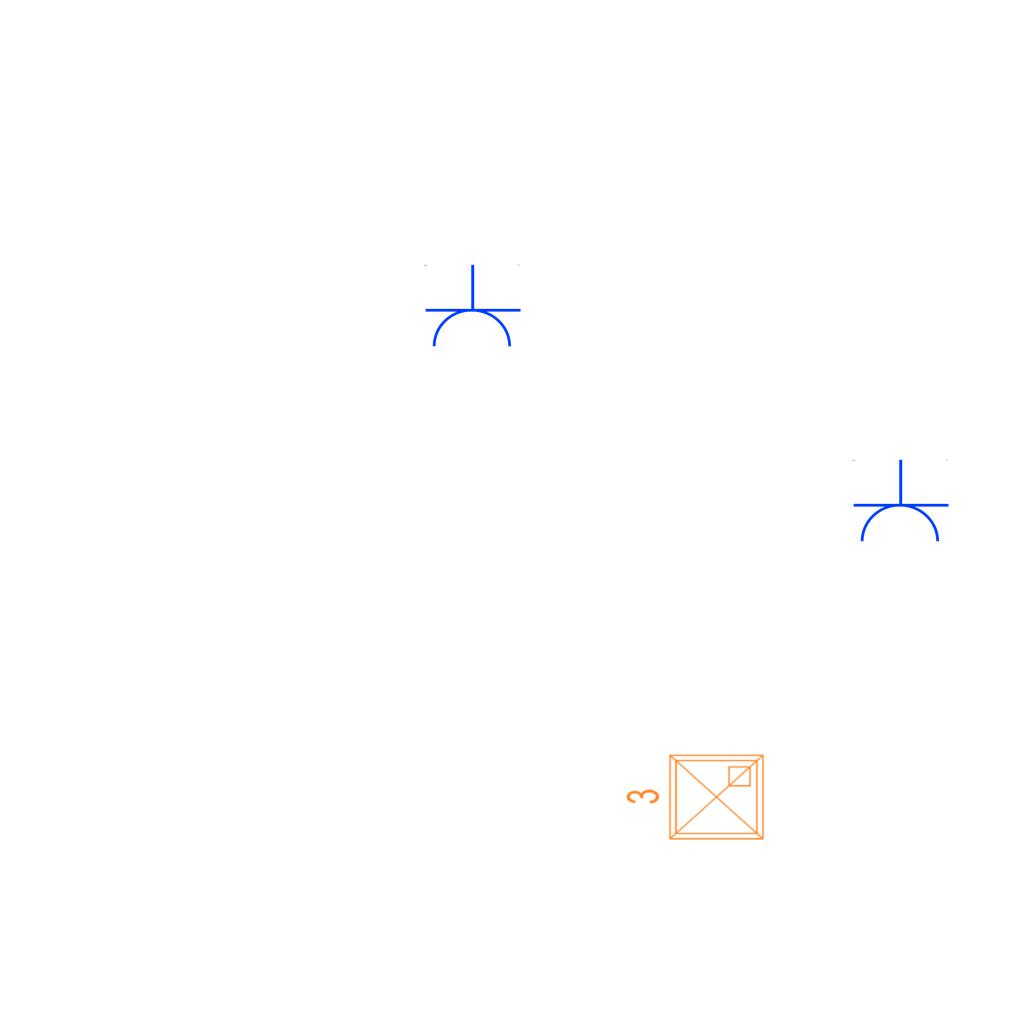Einbaudownlights_LED_Konferenzraeume: (621, 747, 771, 851)
Schukosteckdose_einfach: (850, 459, 950, 546), (422, 264, 522, 351)
